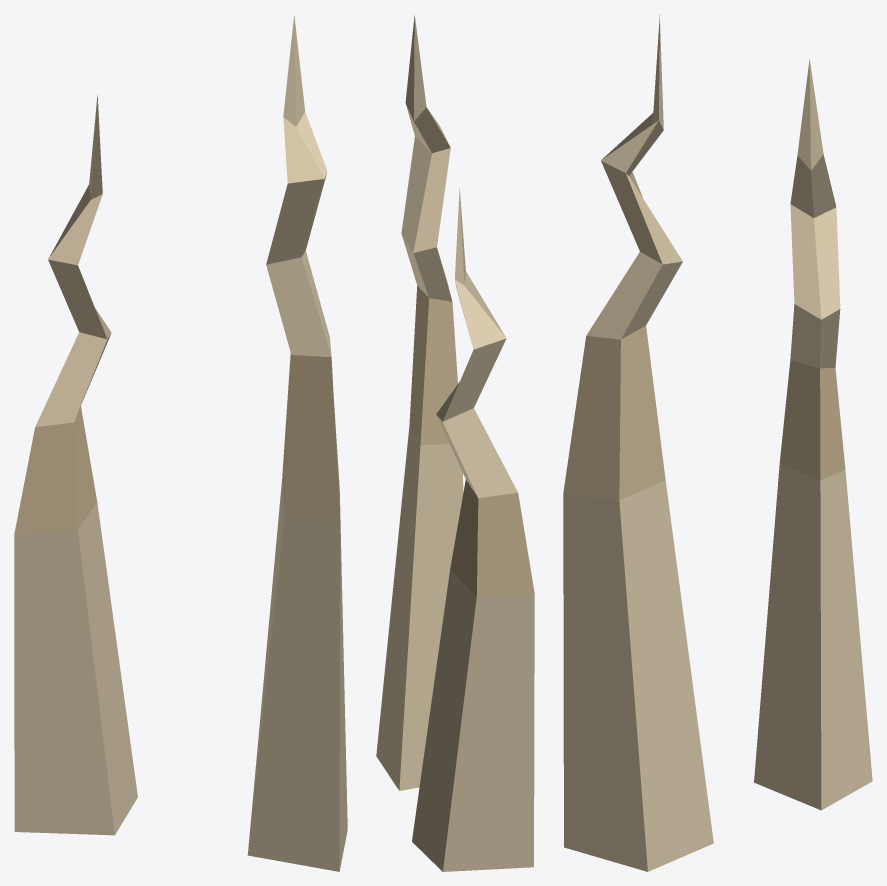
File: EA_M_Env_DryTallGrass_01a.fbx
3 renders of one model, left to right at view 1: azimuth 30°, elevation 25°; view 2: azimuth 150°, elevation 25°; view 3: azimuth 270°, elevation 25°, orthographic. The views are drawn at different scales.
Parts seen in each view (by area): view 1: EA_M_Env_DryTallGrass_01a_LOD0; view 2: EA_M_Env_DryTallGrass_01a_LOD0; view 3: EA_M_Env_DryTallGrass_01a_LOD0.
Boxes of the visible parts, x1=… form: EA_M_Env_DryTallGrass_01a_LOD0: x1=14, y1=15, x2=347, y2=871; EA_M_Env_DryTallGrass_01a_LOD0: x1=376, y1=15, x2=534, y2=871; EA_M_Env_DryTallGrass_01a_LOD0: x1=563, y1=14, x2=872, y2=871.
Size of what is drawn, in the model's own units: 0.1246 by 0.3875 by 0.1302.
